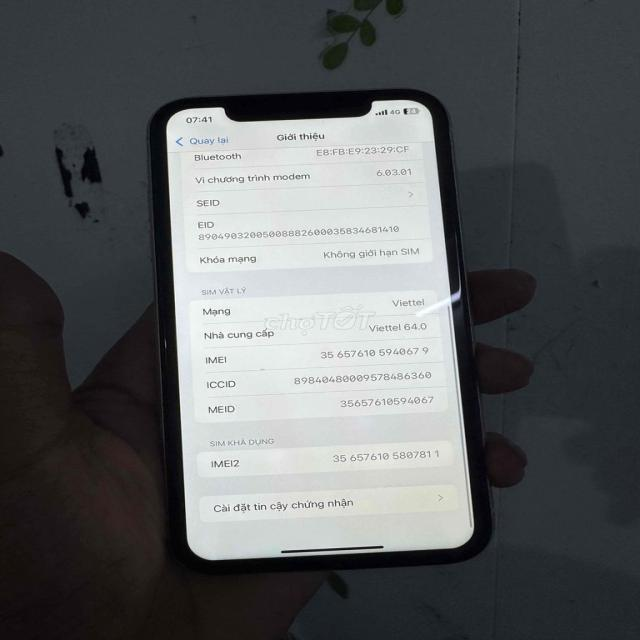gen_11: (143, 81, 501, 584)
